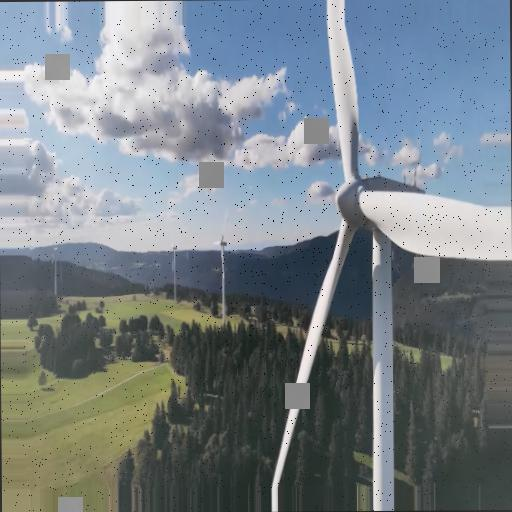wind turbine: (269, 2, 512, 496), (206, 214, 237, 306)
